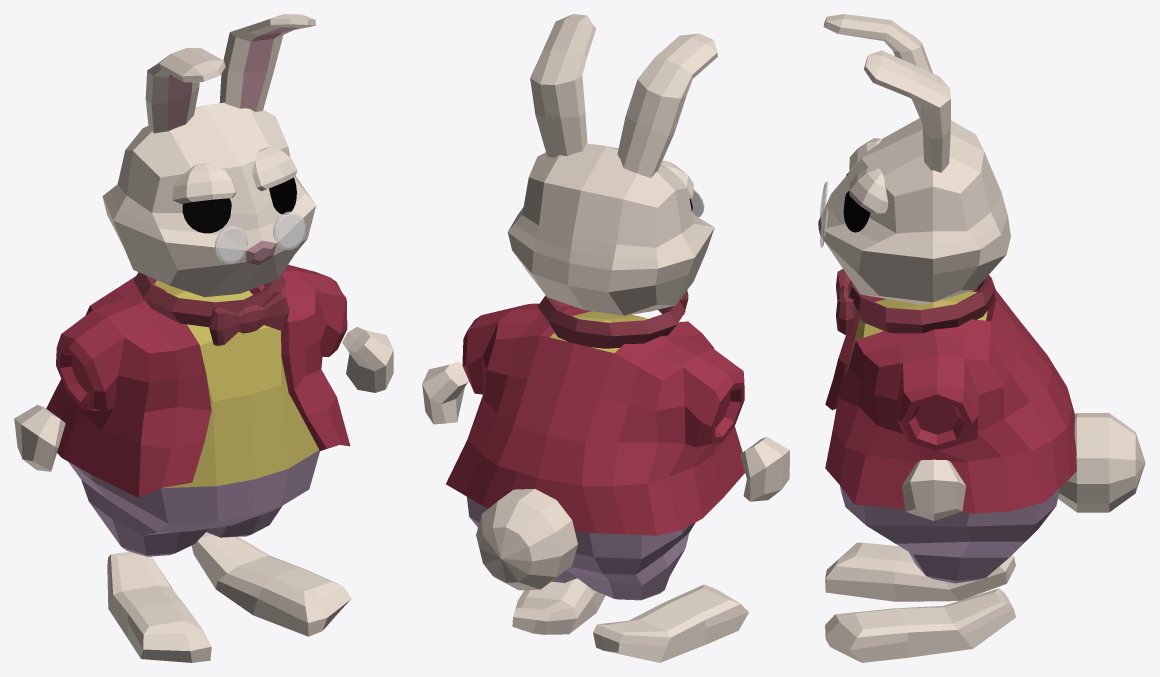
File: mod_bunny.fbx
3 renders of one model, left to right at view 1: azimuth 30°, elevation 25°; view 2: azimuth 150°, elevation 25°; view 3: azimuth 270°, elevation 25°, orthographic. The views are drawn at different scales.
Visible parts, largest first — view 1: mod_bunny, mod_bunny_eyes; view 2: mod_bunny; view 3: mod_bunny, mod_bunny_eyes.
Boxes of the visible parts, x1=… form: mod_bunny: x1=14, y1=14, x2=393, y2=662; mod_bunny_eyes: x1=182, y1=177, x2=296, y2=233; mod_bunny: x1=422, y1=14, x2=789, y2=662; mod_bunny: x1=818, y1=14, x2=1145, y2=662; mod_bunny_eyes: x1=843, y1=172, x2=870, y2=232.
Size of the model in its own units: 119 by 188 by 94.93.
